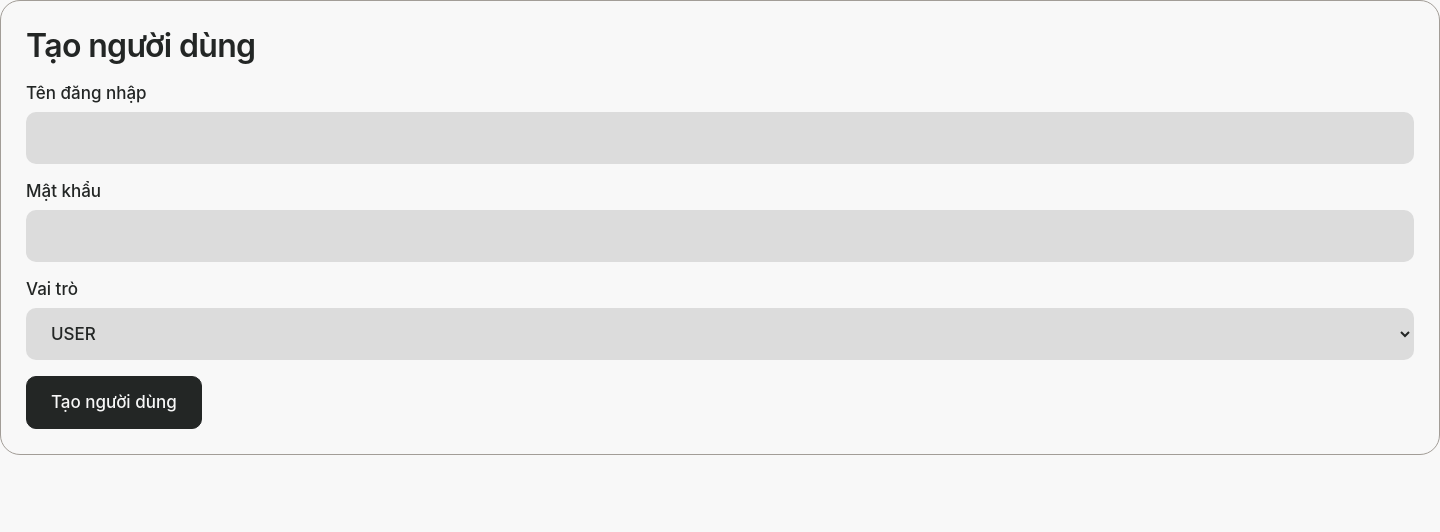
Test: UserForm (U1) › không gọi API khi username hoặc password sai luật
Type "ab" into the field labelled "Tên đăng nhập". click: (720,138)
box: [26,112,1414,164]
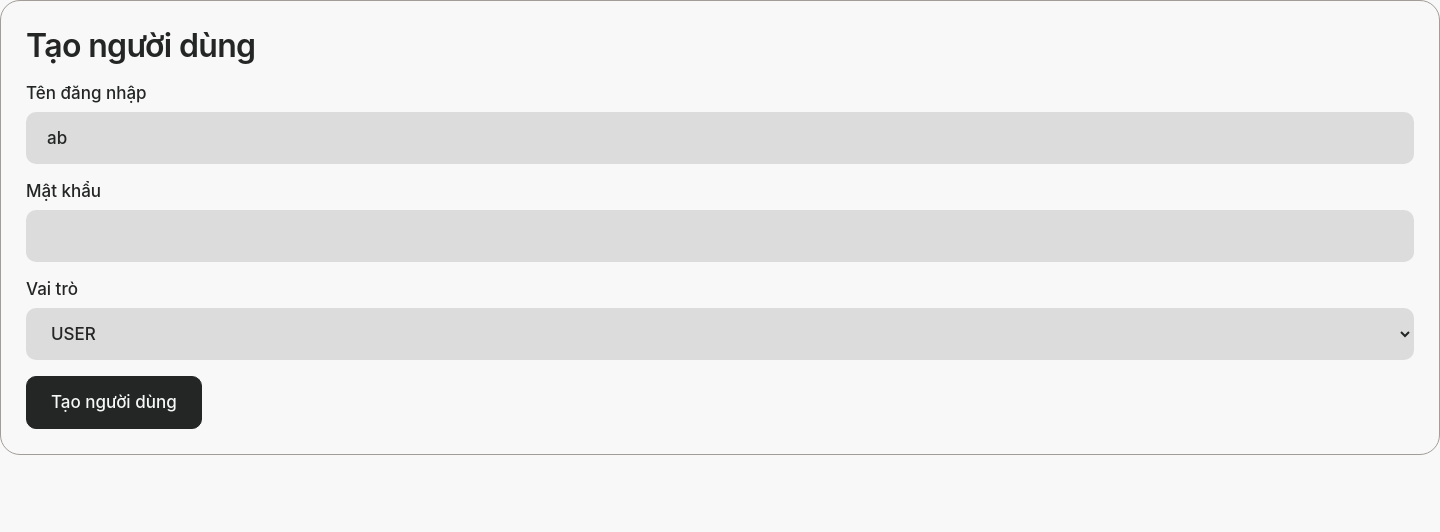
Type "short" into the password field labelled "Mật khẩu". click: (720,236)
box: [26,210,1414,262]
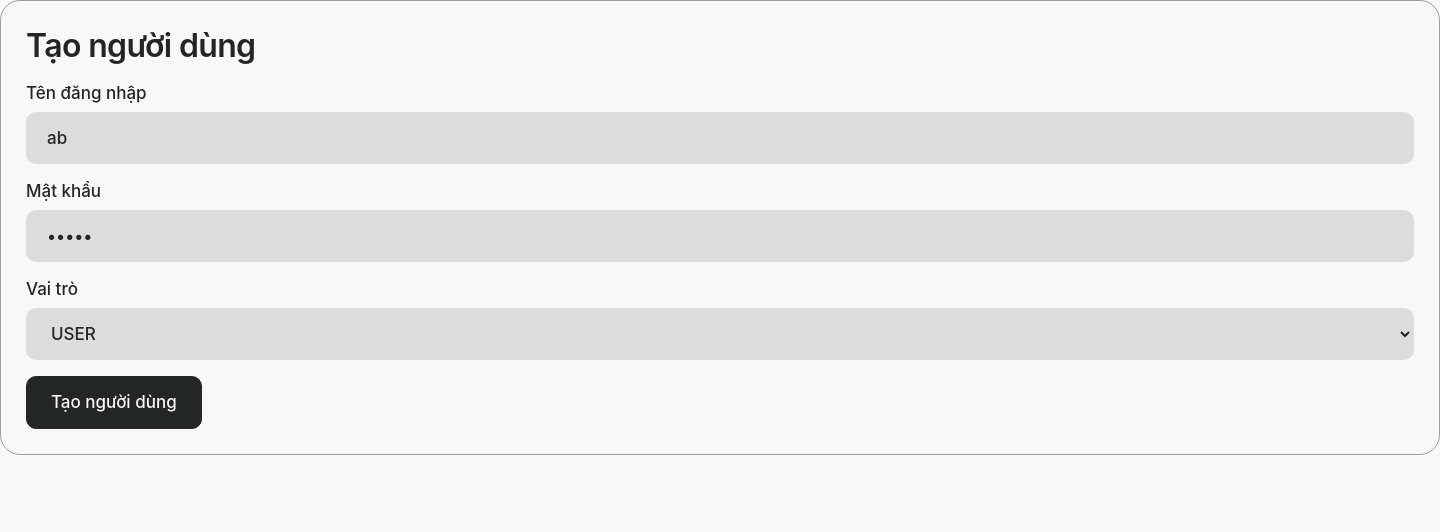
Click the button "Tạo người dùng". click: (114,403)
box: [26,376,202,429]
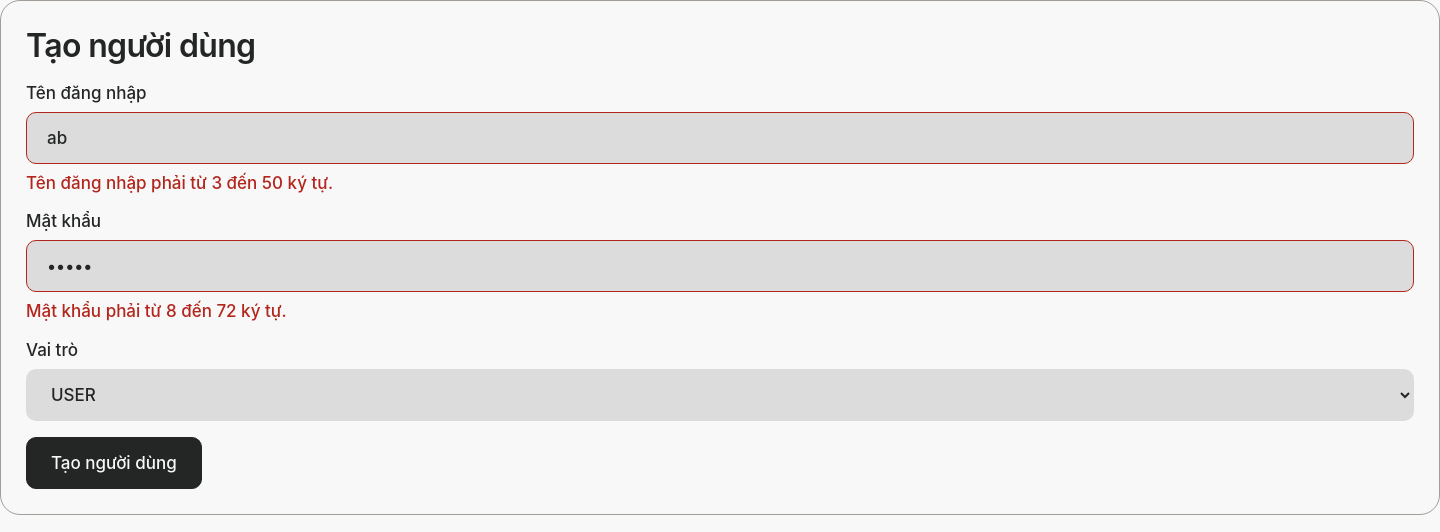
Check: the number of messages is 2, box [26,173,333,193]; [26,302,287,322]
